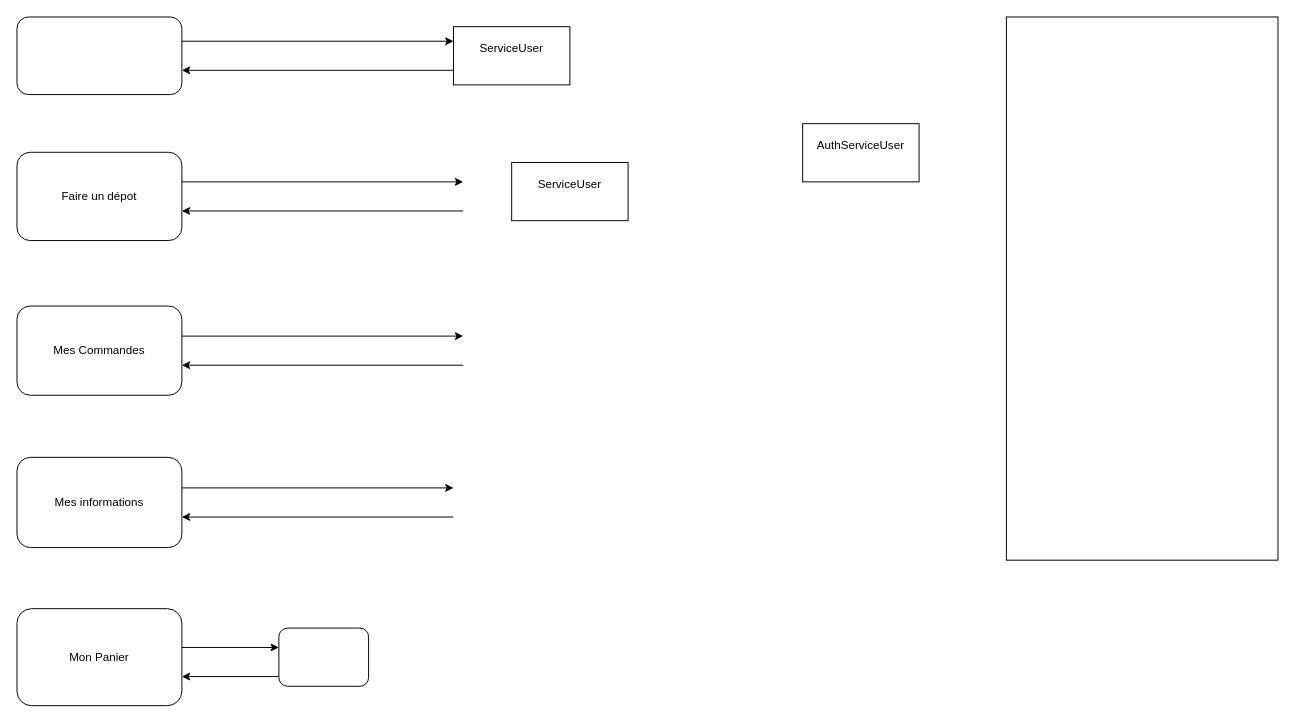
Some shapes in this 1295 by 723 pixel diagram are drawn without their labels. Each missing label, with the centre of its shape:
"Accueil" goes at point (99, 55).
"API" goes at point (1141, 288).
"Local storage" goes at point (323, 656).
